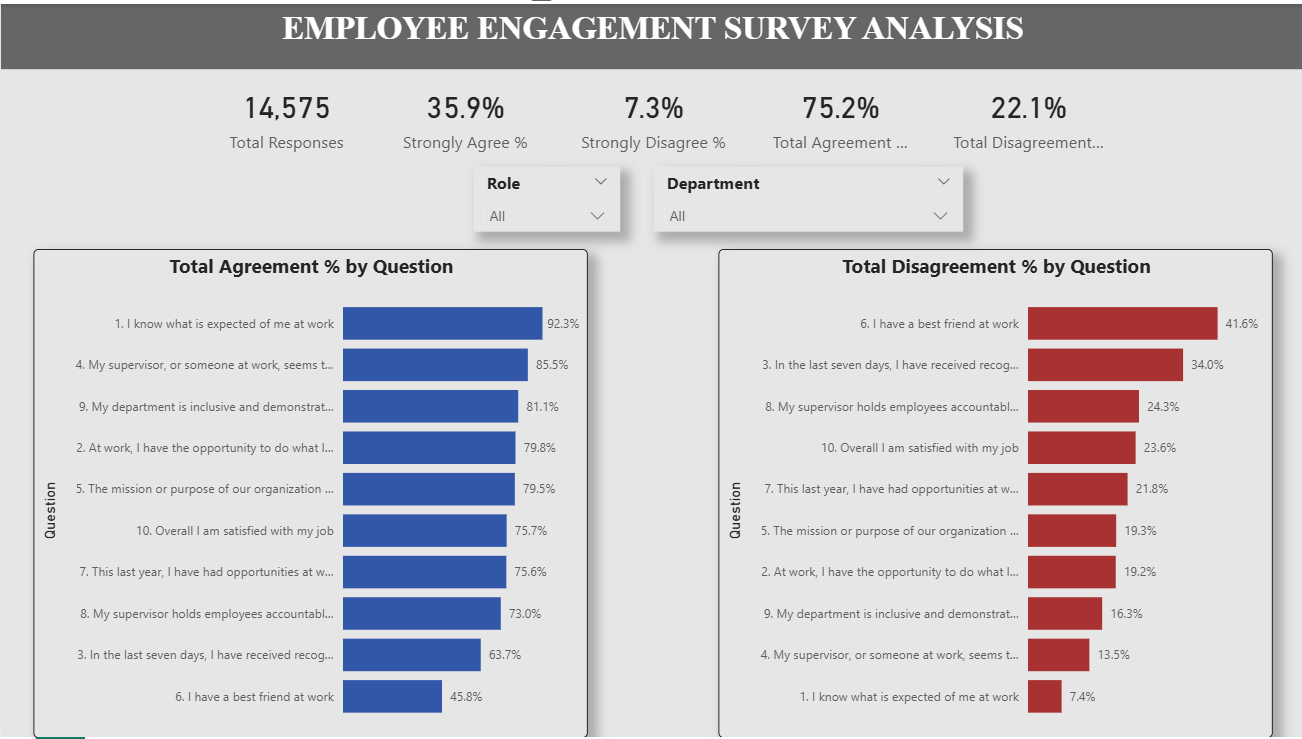

What the dashboard file says about the page in this screenshot:
{"tool":"powerbi","page":{"name":"Page 1","canvas":[1280,720],"ordinal":0},"visuals":[{"type":"card","fields":{"Values":["Data Dictionary.Total Responses"]},"box":[208.2,63,144,96],"z":0},{"type":"card","fields":{"Values":["Data Dictionary.Strongly Disagree %"]},"box":[560.2,63,160,96],"z":1000},{"type":"card","fields":{"Values":["Data Dictionary.Strongly Agree %"]},"box":[384.2,63,144,96],"z":2000},{"type":"card","fields":{"Values":["Data Dictionary.Disagree & Strongly Disagree %"]},"box":[928.2,63,160,96],"z":3000},{"type":"card","fields":{"Values":["Data Dictionary.Agree & Strongly Agree %"]},"box":[752.2,63,144,96],"z":4000},{"type":"clusteredBarChart","title":"Total Disagreement % by Question","fields":{"Category":["HR Survey Reponses.Question"],"Y":["Data Dictionary.Disagree & Strongly Disagree %"]},"box":[704,240,544,480],"z":5000},{"type":"slicer","fields":{"Values":["HR Survey Reponses.Department"]},"box":[640,160,304,64],"z":6000},{"type":"slicer","fields":{"Values":["HR Survey Reponses.Role"]},"box":[464,160,144,64],"z":8000},{"type":"clusteredBarChart","title":"Total Agreement % by Question","fields":{"Category":["HR Survey Reponses.Question"],"Y":["Data Dictionary.Agree & Strongly Agree %"]},"box":[32,240,544,480],"z":9000},{"type":"textbox","box":[0,0,1280,64],"z":10000}]}

Visuals, with their boxes in screenshot pixels (x1, y1, x2, y2), scaled from the page's 1280x720 canvas onto the 1302x739 screenshot:
card - Data Dictionary.Total Responses: crop(212, 65, 358, 163)
card - Data Dictionary.Strongly Disagree %: crop(570, 65, 733, 163)
card - Data Dictionary.Strongly Agree %: crop(391, 65, 537, 163)
card - Data Dictionary.Disagree & Strongly Disagree %: crop(944, 65, 1107, 163)
card - Data Dictionary.Agree & Strongly Agree %: crop(765, 65, 912, 163)
"Total Disagreement % by Question" clusteredBarChart: crop(716, 246, 1269, 738)
slicer - HR Survey Reponses.Department: crop(651, 164, 960, 230)
slicer - HR Survey Reponses.Role: crop(472, 164, 618, 230)
"Total Agreement % by Question" clusteredBarChart: crop(33, 246, 586, 738)
textbox: crop(0, 0, 1301, 66)
